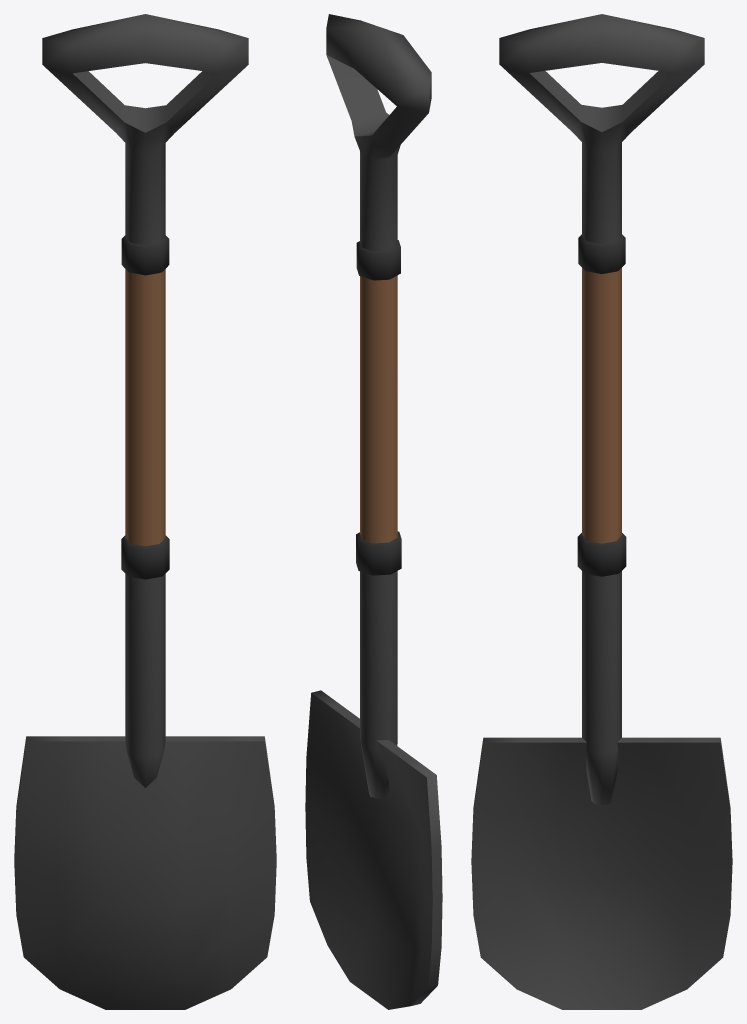
File: ShovelItem.fbx
The picture shows the model from 3 angles, left to right: view 1: azimuth 90°, elevation 25°; view 2: azimuth 210°, elevation 25°; view 3: azimuth 270°, elevation 25°; orthographic projection. The views are drawn at different scales.
Parts seen in each view (by area): view 1: ShovelItem; view 2: ShovelItem; view 3: ShovelItem.
Boxes of the visible parts, x1,y1,x2,y2 form: ShovelItem: [14, 14, 276, 1009]; ShovelItem: [305, 14, 442, 1009]; ShovelItem: [471, 14, 732, 1009].
Size of the model in its own units: 0.0935 by 1.71 by 0.4082.
